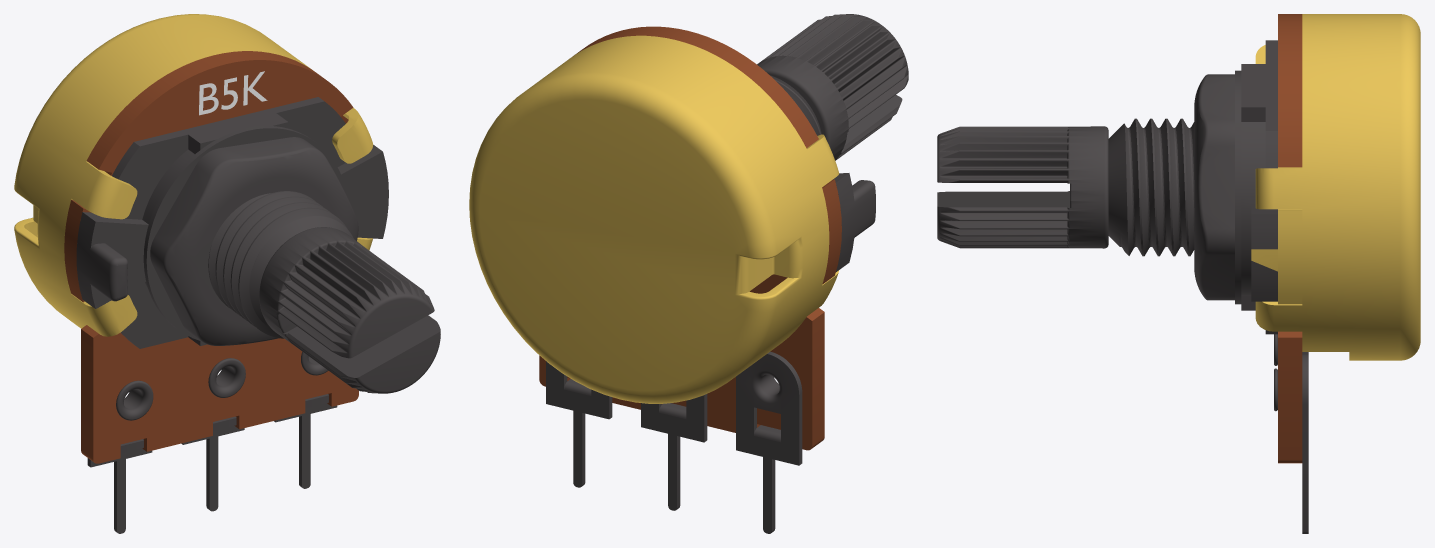
File: FinalPotentiometer.fbx
The picture shows the model from 3 angles, left to right: view 1: azimuth 30°, elevation 25°; view 2: azimuth 150°, elevation 25°; view 3: azimuth 270°, elevation 25°; orthographic projection. The views are drawn at different scales.
Visible parts, largest first — view 1: metal_material, pcbmarrom_material, latao_material, Text; view 2: latao_material, metal_material, pcbmarrom_material; view 3: metal_material, latao_material, pcbmarrom_material.
Part boxes in pixels (x1,y1,x2,y2): metal_material: (76, 97, 440, 533); pcbmarrom_material: (64, 51, 358, 463); latao_material: (14, 14, 373, 336); Text: (199, 71, 267, 115); latao_material: (469, 35, 839, 403); metal_material: (546, 14, 908, 533); pcbmarrom_material: (539, 26, 841, 450); metal_material: (937, 40, 1308, 533); latao_material: (1251, 14, 1420, 360); pcbmarrom_material: (1278, 14, 1302, 463).
Bounding box in the file's own units: 162 × 236 × 226.
